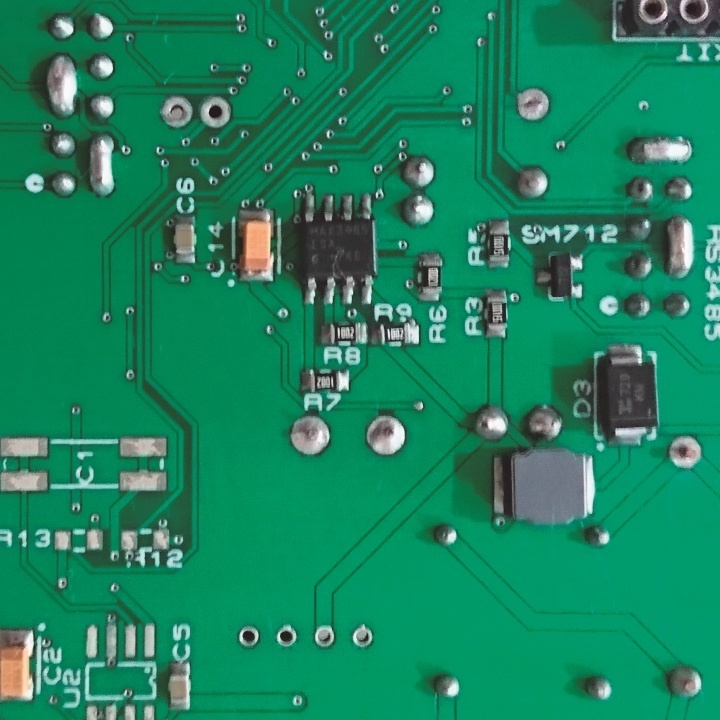F: (364, 411, 407, 456), (288, 416, 331, 457), (664, 433, 704, 472), (514, 86, 551, 123), (158, 95, 194, 129), (199, 95, 232, 130), (309, 623, 339, 652), (346, 625, 379, 651), (236, 625, 261, 653), (275, 626, 299, 649)
P: (84, 128, 121, 201), (627, 133, 697, 170), (44, 52, 78, 120), (664, 216, 697, 282)
